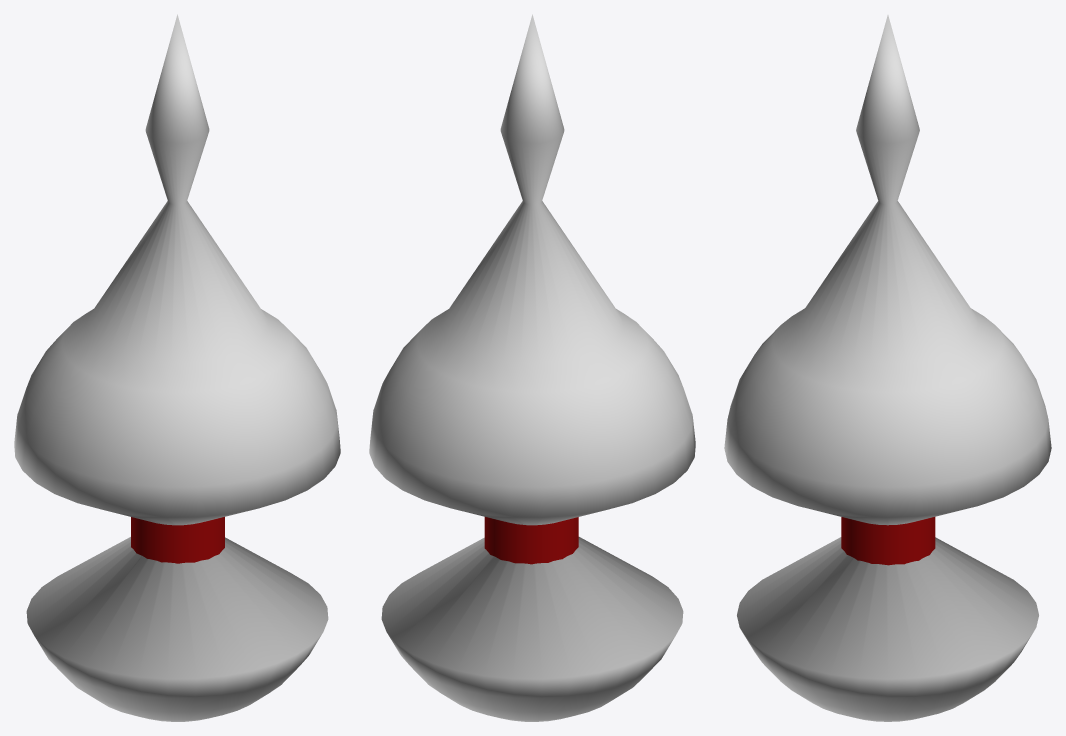
Rendered from Boss-(Laser-Form).fbx.
3 views of the same model, side by side, from view 1: azimuth 30°, elevation 25°; view 2: azimuth 150°, elevation 25°; view 3: azimuth 270°, elevation 25° (orthographic).
Parts seen in each view (by area): view 1: Sphere003, Cylinder002; view 2: Sphere003, Cylinder002; view 3: Sphere003, Cylinder002.
Part boxes in pixels (left/top/right/bottom): Sphere003: left=14, top=14, right=340, bottom=721; Cylinder002: left=131, top=517, right=224, bottom=563; Sphere003: left=369, top=14, right=695, bottom=721; Cylinder002: left=484, top=517, right=578, bottom=564; Sphere003: left=724, top=15, right=1051, bottom=721; Cylinder002: left=841, top=517, right=935, bottom=565.
Bounding box in the file's own units: 52.63 × 123 × 52.63.
